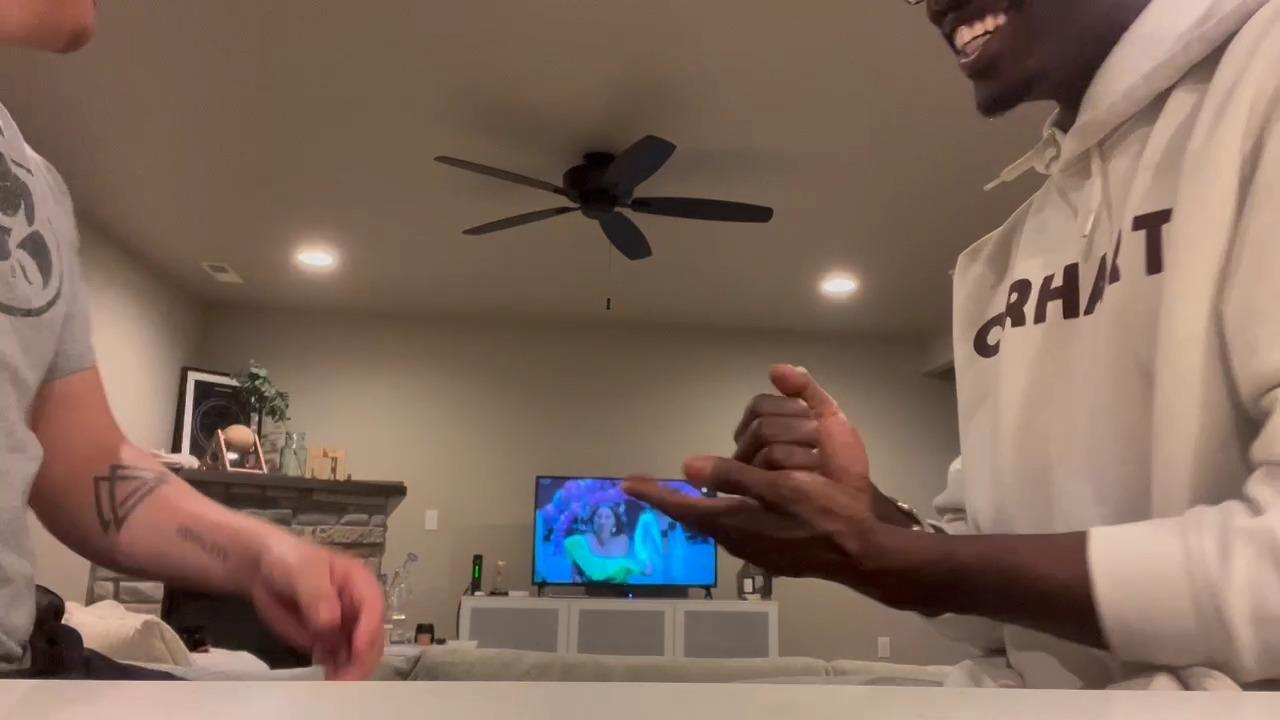Rock: (735, 363, 871, 512)
